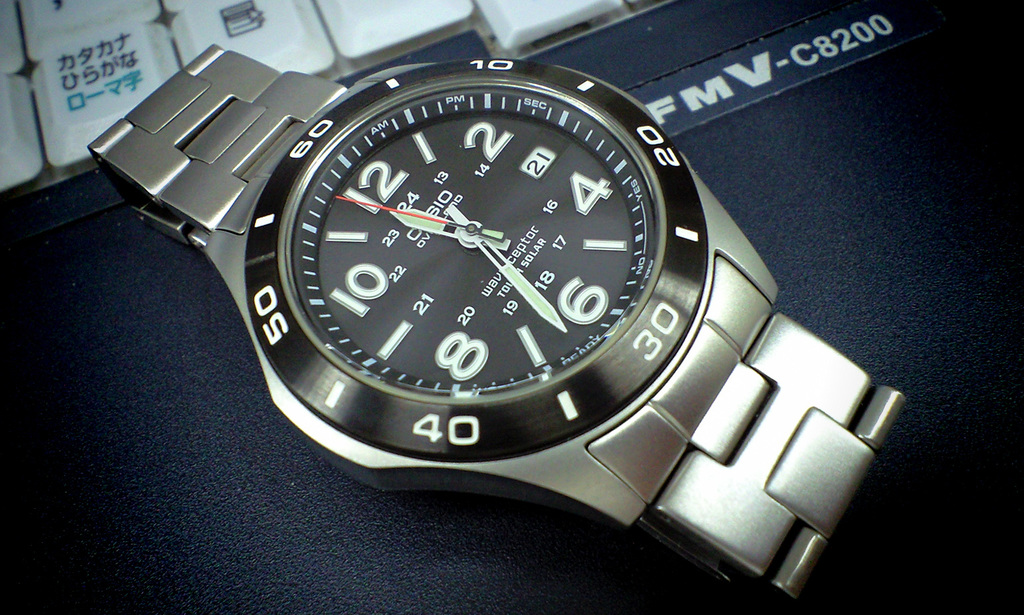watch: (75, 41, 913, 606)
